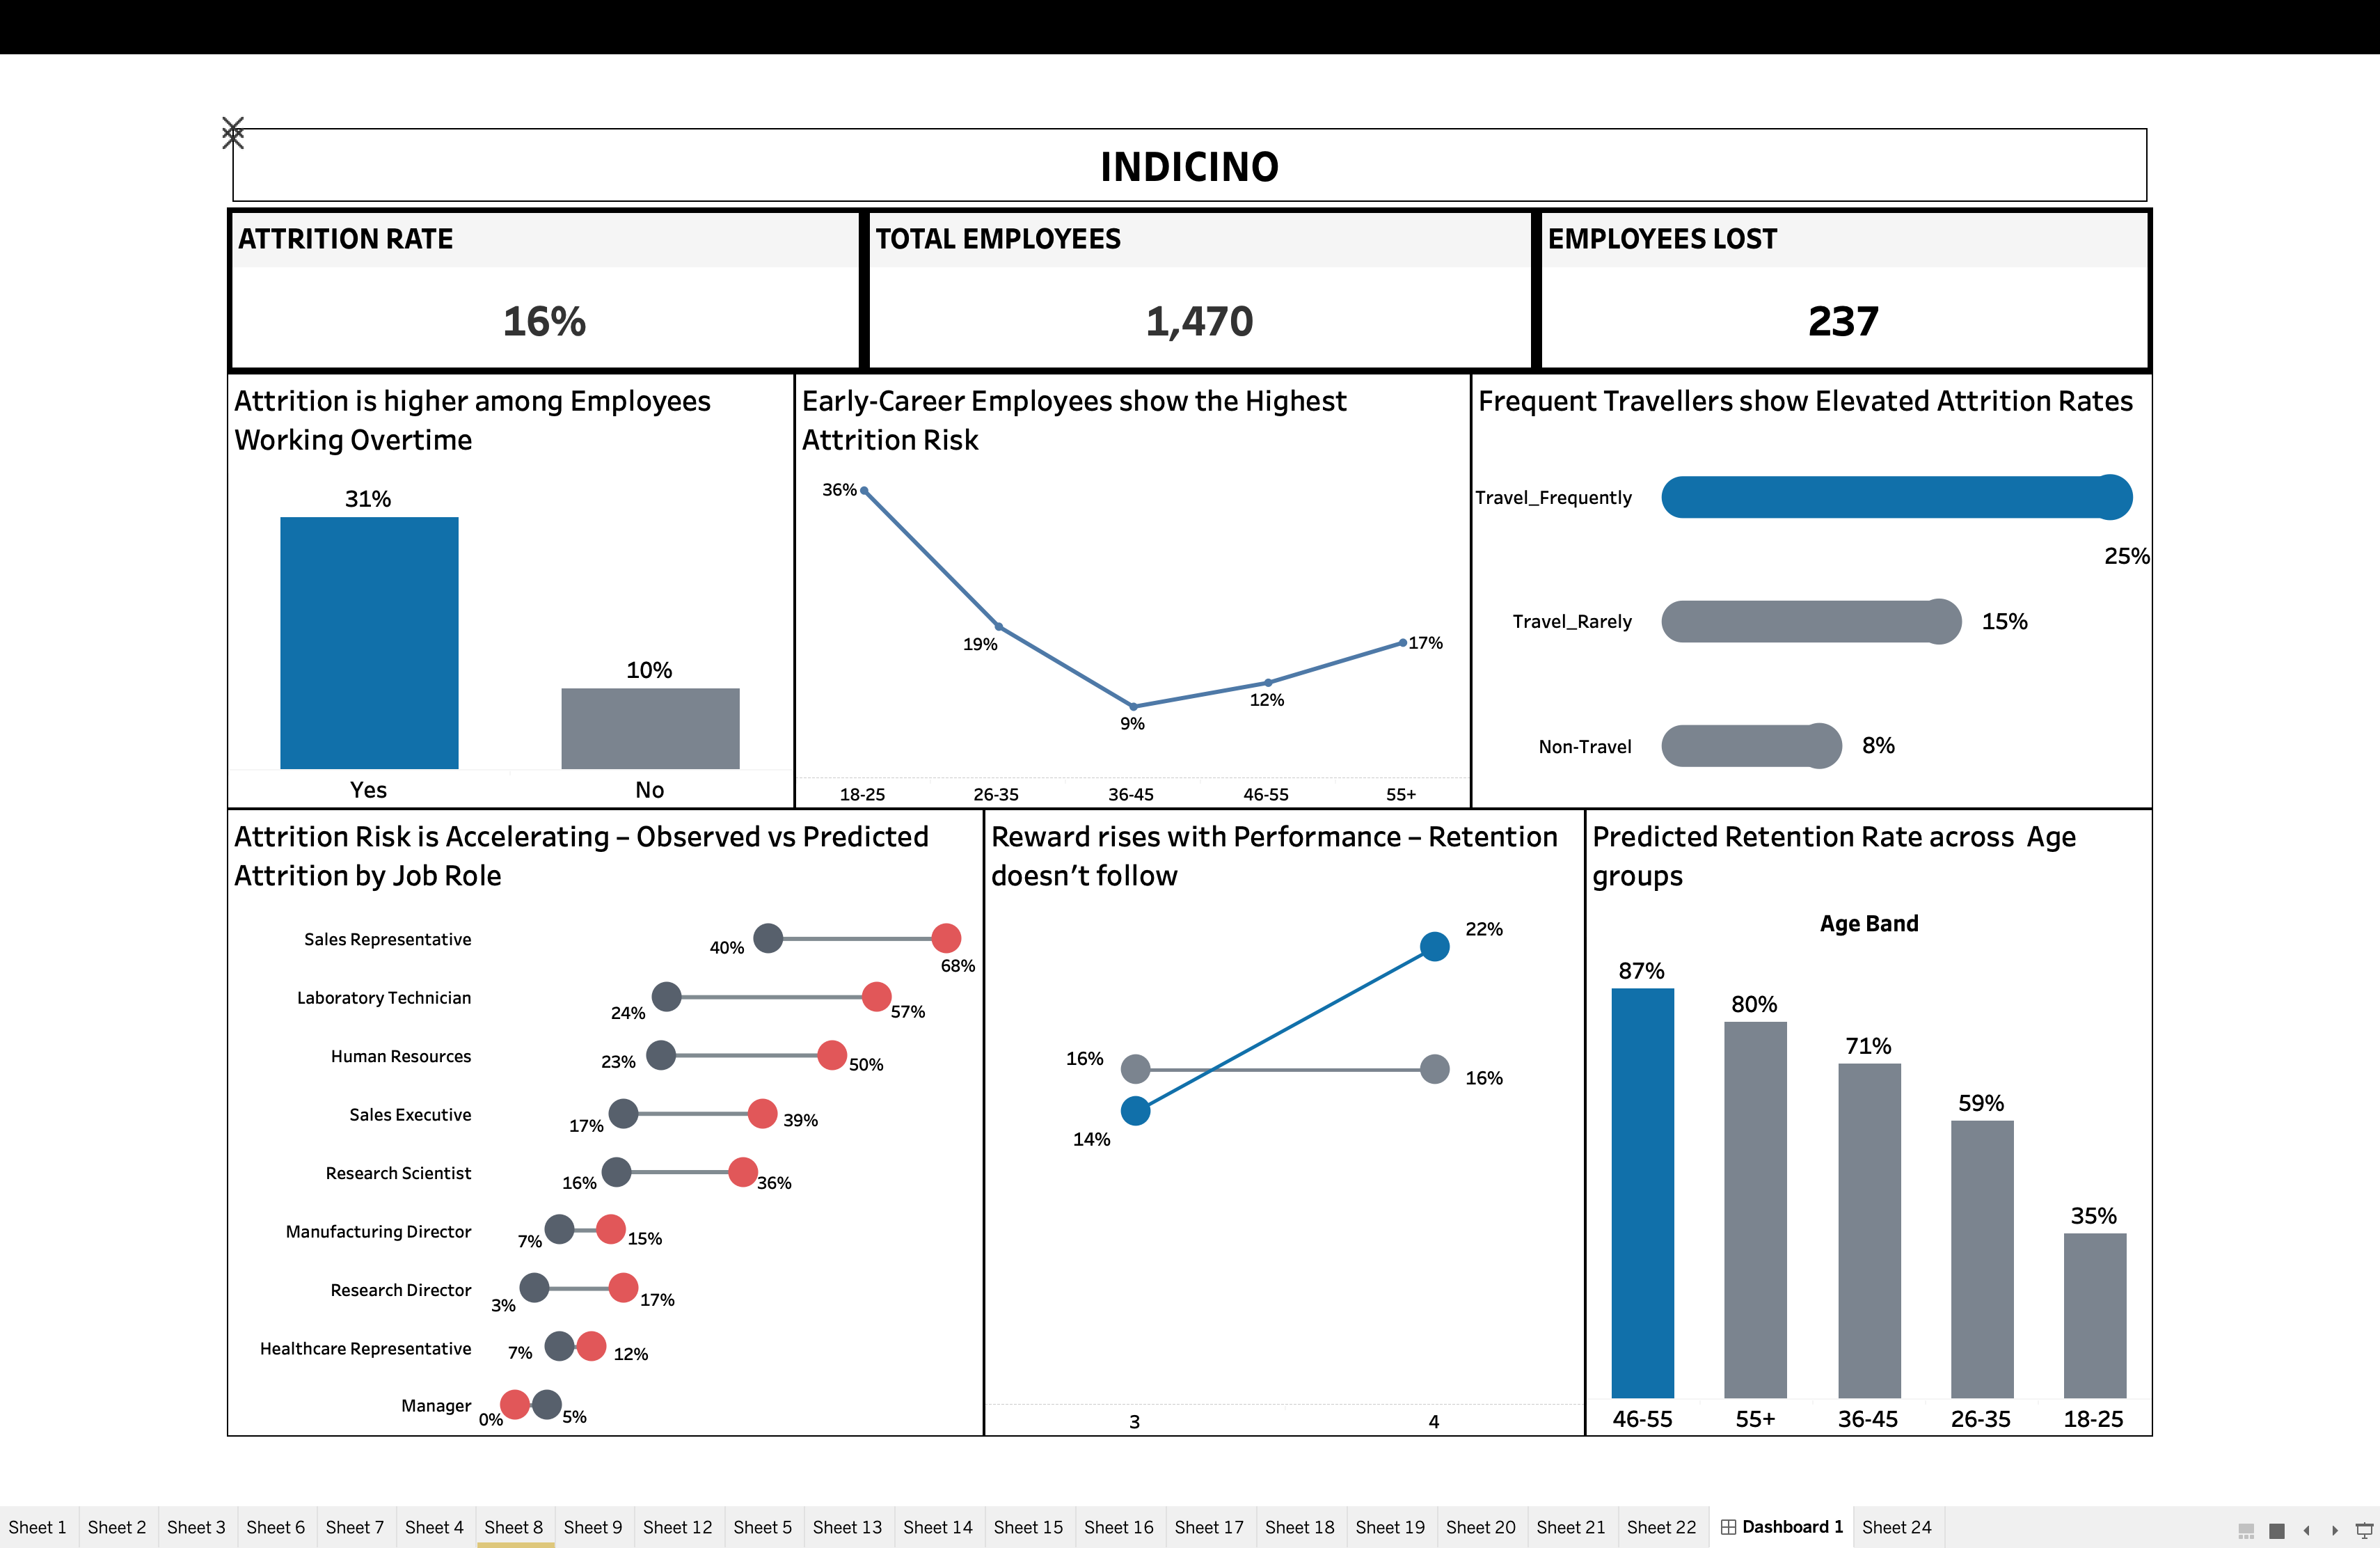

This screenshot's page, from the dashboard's own definition file:
{"tool":"tableau","page":{"name":"Dashboard 1","canvas":[1400,960],"ordinal":0},"visuals":[{"type":"dashboard-object","box":[0,0,24,23]},{"type":"dashboard-object","box":[0,7.7,24,23]},{"type":"text","box":[8,8,1384,61]},{"type":"worksheet","title":"Sheet 15","mark":"Text","box":[8,69,458,119]},{"type":"worksheet","title":"Sheet 16","mark":"Automatic","box":[466,69,483,119]},{"type":"worksheet","title":"Sheet 17","mark":"Automatic","box":[949,69,443,119]},{"type":"worksheet","title":"Sheet 3","mark":"Bar","rows":["Calculation_0166888231436288"],"cols":["OverTime"],"box":[8,188,408,312.8]},{"type":"worksheet","title":"Sheet 20","mark":"Line","rows":["Calculation_0166888231436288"],"cols":["AgeGroup"],"box":[416,188,486,312.8]},{"type":"worksheet","title":"Sheet 5","mark":"Line","rows":["BusinessTravel"],"box":[902,188,490,312.8]},{"type":"worksheet","title":"Sheet 4","mark":"Circle","rows":["JobRole"],"box":[8,500.8,544,451.2]},{"type":"worksheet","title":"Sheet 24","mark":"Line","cols":["PerformanceRating"],"box":[552,500.8,431.8,451.2]},{"type":"worksheet","title":"Sheet 9","mark":"Bar","rows":["Calculation_0166888303149059"],"cols":["AgeBand"],"box":[983.8,500.8,408.2,451.2]}]}

Visuals, with their boxes on the page's 1400x960 design canvas (x1, y1, x2, y2). These are canvas units, not pixel positions in the 2380x1548 screenshot, which may show the page scaled, cropped or inside an application window:
dashboard-object: x1=0 y1=0 x2=24 y2=23
dashboard-object: x1=0 y1=8 x2=24 y2=31
text: x1=8 y1=8 x2=1392 y2=69
"Sheet 15" worksheet (Text marks): x1=8 y1=69 x2=466 y2=188
"Sheet 16" worksheet: x1=466 y1=69 x2=949 y2=188
"Sheet 17" worksheet: x1=949 y1=69 x2=1392 y2=188
"Sheet 3" worksheet (Bar marks): x1=8 y1=188 x2=416 y2=501
"Sheet 20" worksheet (Line marks): x1=416 y1=188 x2=902 y2=501
"Sheet 5" worksheet (Line marks): x1=902 y1=188 x2=1392 y2=501
"Sheet 4" worksheet (Circle marks): x1=8 y1=501 x2=552 y2=952
"Sheet 24" worksheet (Line marks): x1=552 y1=501 x2=984 y2=952
"Sheet 9" worksheet (Bar marks): x1=984 y1=501 x2=1392 y2=952
